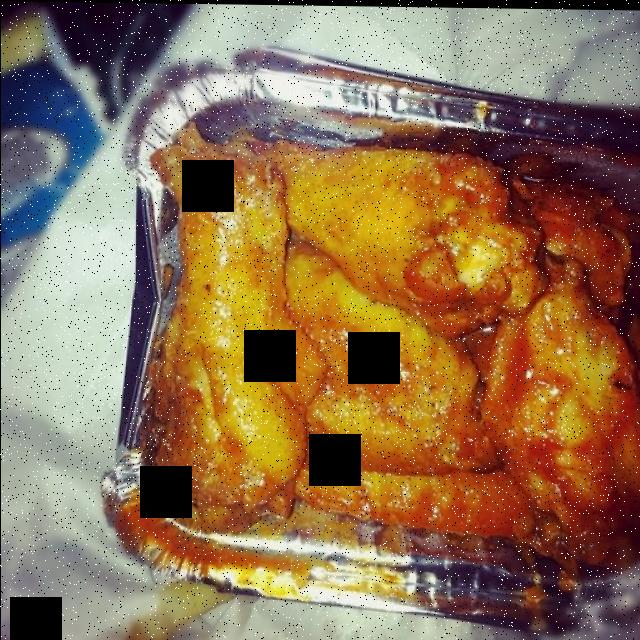Frango: (154, 119, 315, 507), (188, 149, 534, 327)
